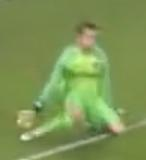goalkeeper: (9, 14, 137, 143)
